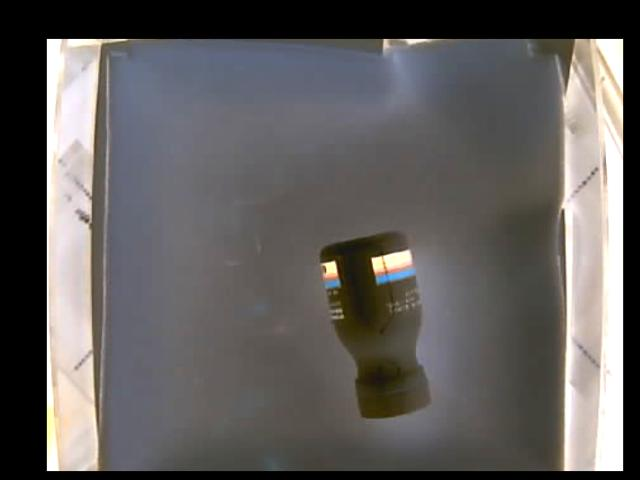Bottle: (319, 231, 425, 420)
